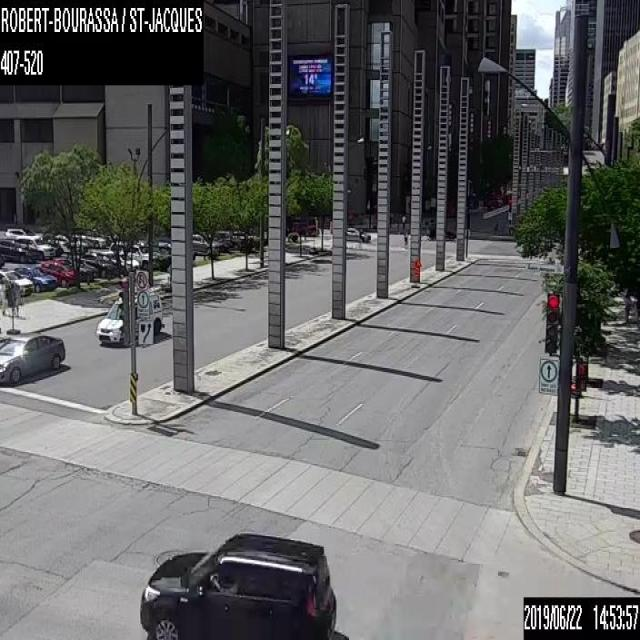construction: (412, 258, 420, 278)
pedestrian: (624, 293, 630, 323), (403, 229, 408, 247)
vehicle: (138, 529, 336, 639), (95, 291, 163, 344), (0, 332, 65, 382), (14, 266, 58, 290), (38, 260, 78, 286), (109, 241, 149, 267), (91, 248, 138, 270), (60, 254, 97, 281), (0, 268, 35, 295), (16, 234, 54, 258), (82, 253, 116, 277), (190, 231, 221, 256), (0, 239, 35, 261), (54, 234, 86, 252), (41, 234, 62, 256), (345, 225, 370, 243), (427, 224, 455, 240), (3, 226, 38, 238)
